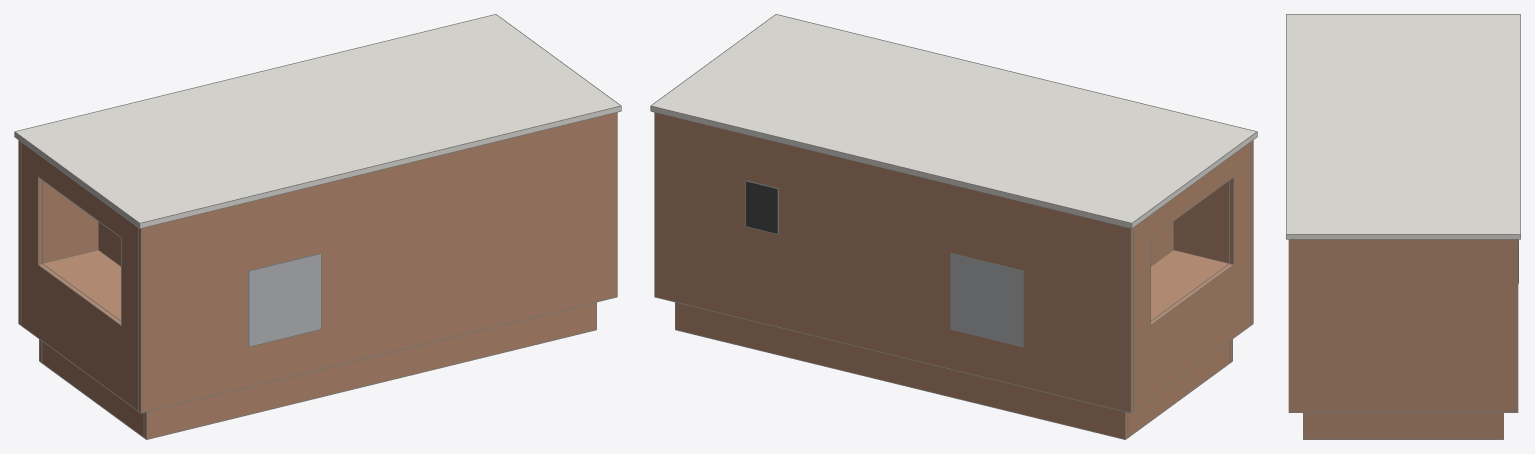
File: modell.glb
3 views of the same model, side by side, from view 1: azimuth 30°, elevation 25°; view 2: azimuth 150°, elevation 25°; view 3: azimuth 270°, elevation 25° (orthographic). The views are drawn at different scales.
Size of the model in its own units: 2003 by 903 by 903.
